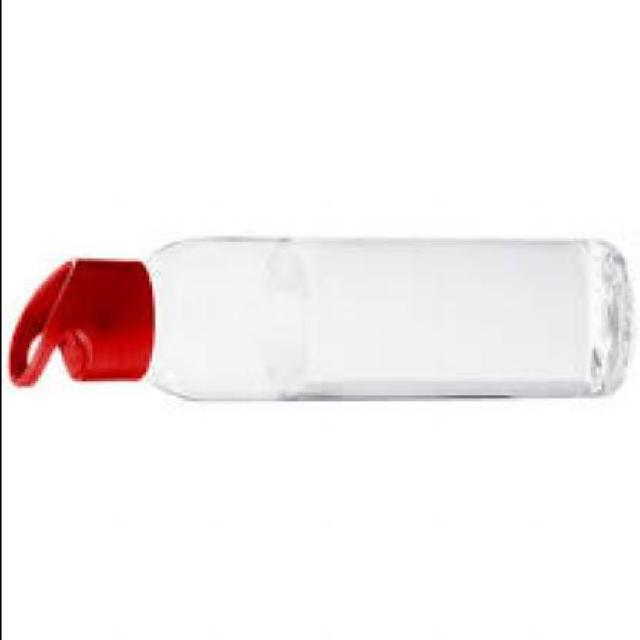PLASTIC: (2, 236, 628, 401), (3, 259, 151, 390)
